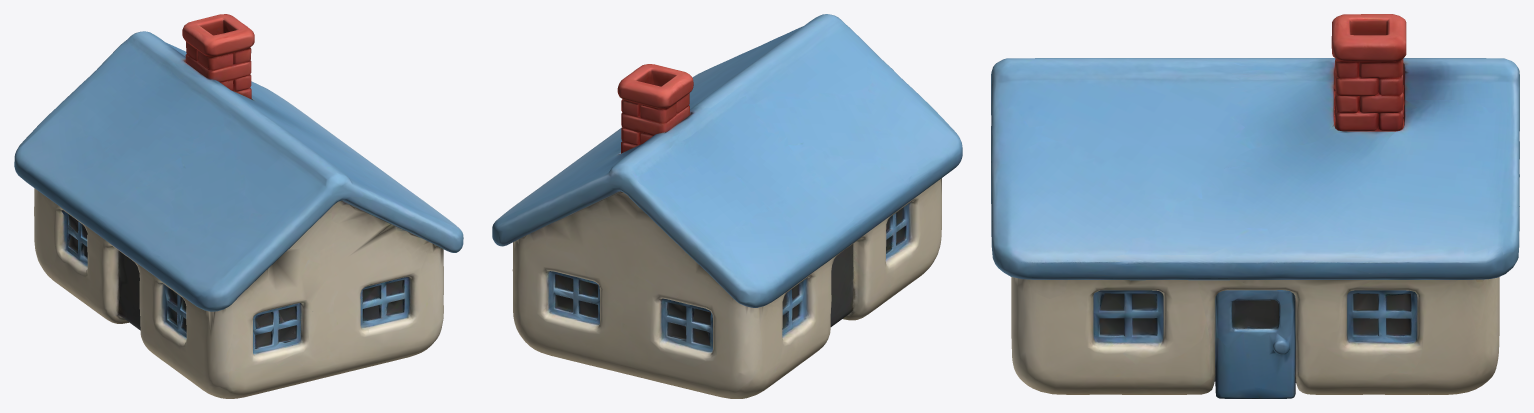
The model's file is cottage.glb.
3 views of the same model, side by side, from view 1: azimuth 30°, elevation 25°; view 2: azimuth 150°, elevation 25°; view 3: azimuth 270°, elevation 25° (orthographic). The views are drawn at different scales.
Parts seen in each view (by area): view 1: tripo_node_18f1d81c-f5c0-407b-86cd-0e77a68beaf2; view 2: tripo_node_18f1d81c-f5c0-407b-86cd-0e77a68beaf2; view 3: tripo_node_18f1d81c-f5c0-407b-86cd-0e77a68beaf2.
Boxes of the visible parts, x1,y1,x2,y2 form: tripo_node_18f1d81c-f5c0-407b-86cd-0e77a68beaf2: [14, 14, 463, 398]; tripo_node_18f1d81c-f5c0-407b-86cd-0e77a68beaf2: [492, 14, 962, 398]; tripo_node_18f1d81c-f5c0-407b-86cd-0e77a68beaf2: [991, 14, 1519, 398].
Size of the model in its own units: 0.7436 by 0.6704 by 1.
Materials: 1 (1 with a texture image).
